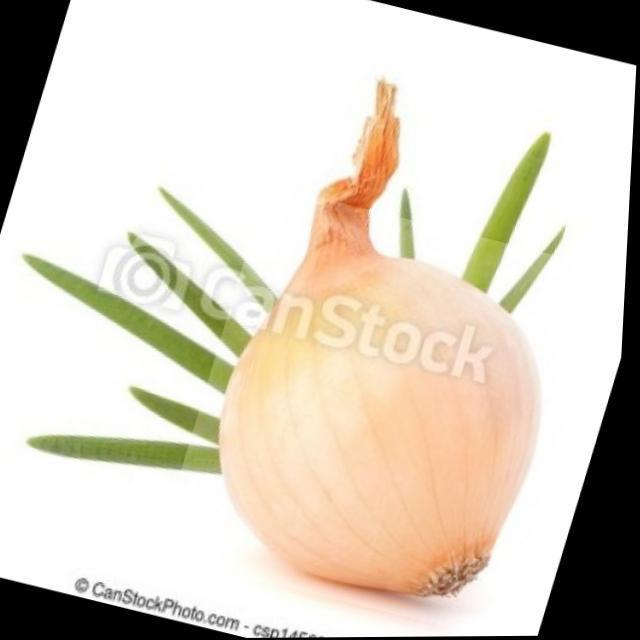Onion: (158, 182, 622, 639)
